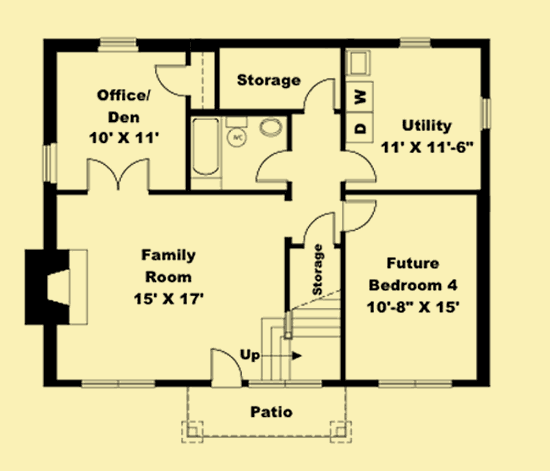door: (84, 156, 151, 197), (298, 74, 340, 115), (152, 61, 191, 102), (206, 348, 244, 387), (339, 198, 378, 235), (338, 149, 378, 184), (301, 211, 336, 251), (252, 151, 292, 185)
large_sink: (224, 115, 250, 149)
stairs: (261, 286, 341, 379)
tub: (190, 114, 224, 182)
window: (94, 35, 141, 56), (43, 140, 59, 189), (79, 379, 157, 389), (248, 379, 323, 389), (379, 379, 453, 389), (398, 37, 432, 49), (481, 94, 491, 133)
